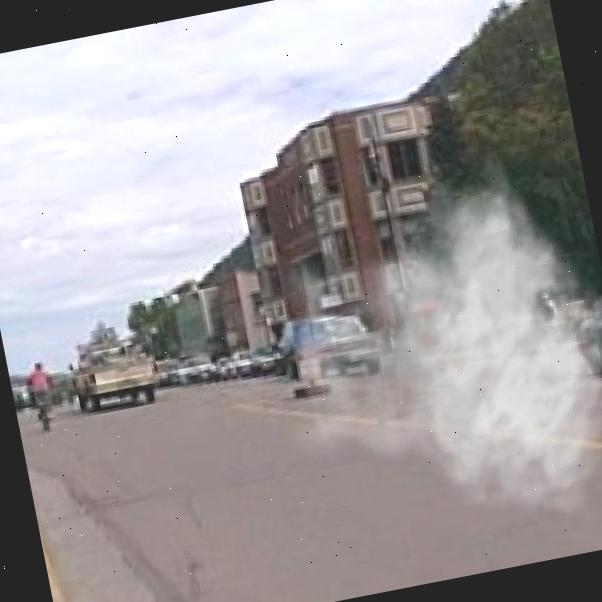smoke: (235, 135, 602, 568)
